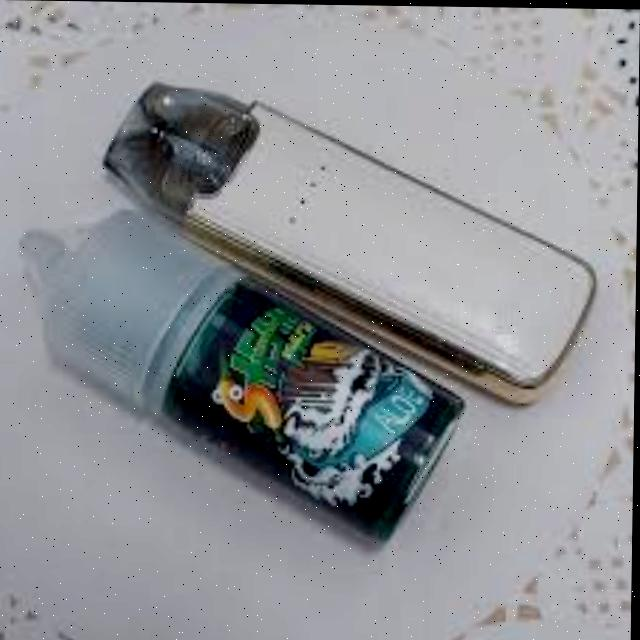vape: (96, 78, 602, 407)
